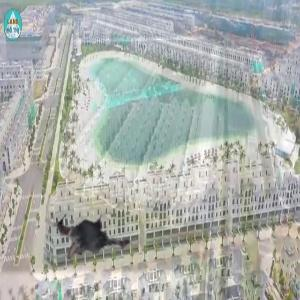drone: (41, 186, 138, 283)
